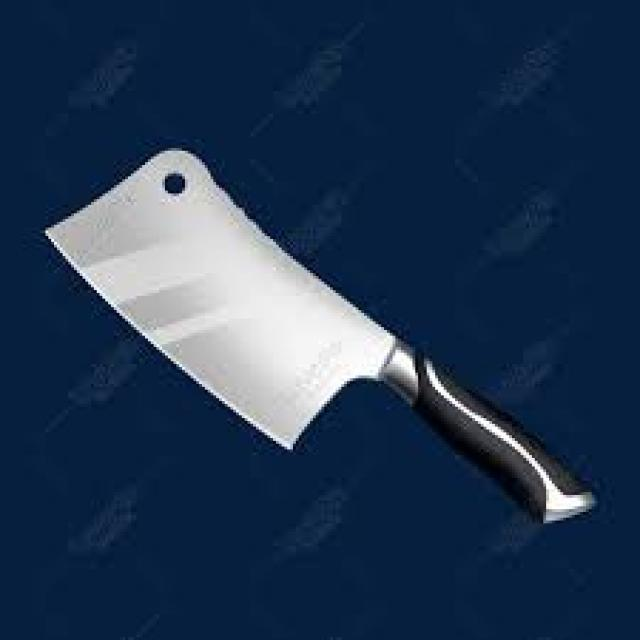Knife: (46, 151, 592, 521)
